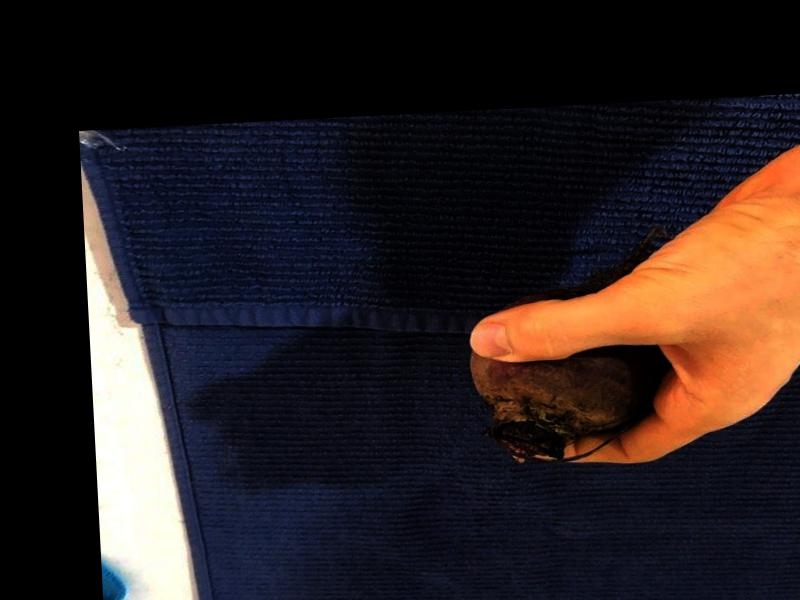Beet: (461, 223, 668, 464)
